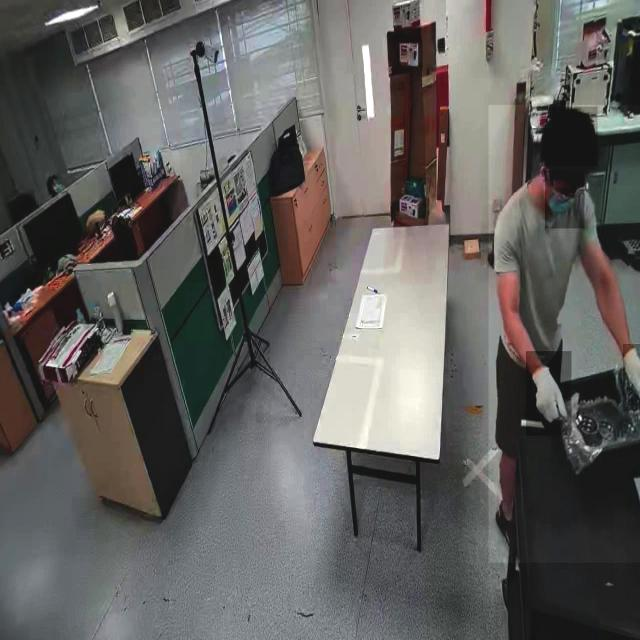face_mask: (545, 170, 585, 228)
hand_glove: (526, 351, 572, 437), (622, 344, 640, 412)
head_nohelmet: (541, 107, 597, 167)
person: (488, 105, 640, 563)
